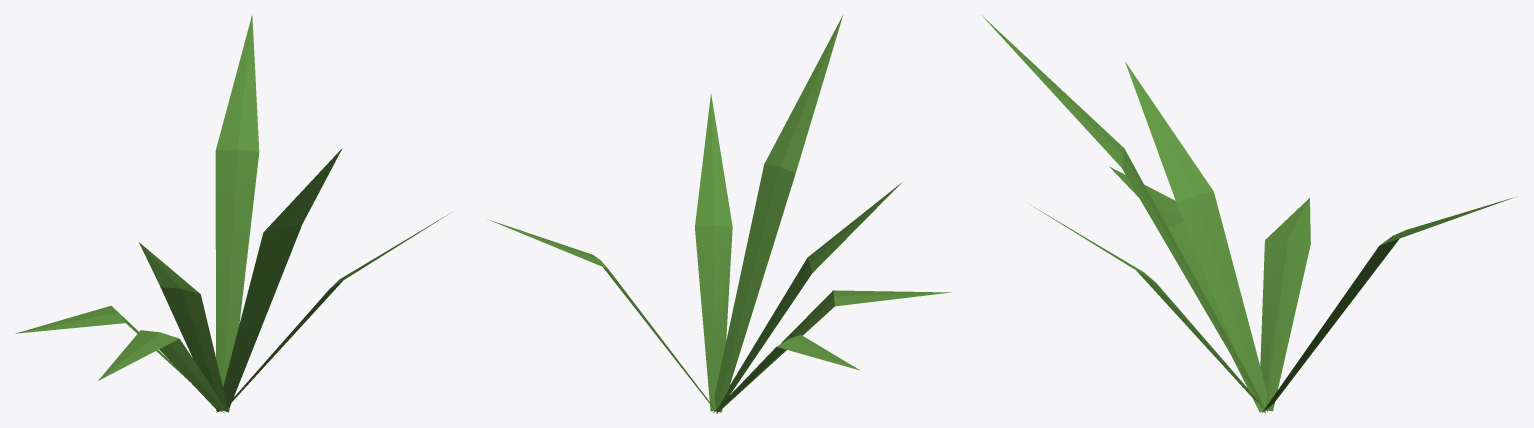
Rendered from GrassTuft.fbx.
The picture shows the model from 3 angles, left to right: view 1: azimuth 30°, elevation 25°; view 2: azimuth 150°, elevation 25°; view 3: azimuth 270°, elevation 25°; orthographic projection. The views are drawn at different scales.
Visible parts, largest first — view 1: GrassTuft; view 2: GrassTuft; view 3: GrassTuft.
Part boxes in pixels (<box>): GrassTuft: <box>15,15,450,413</box>; GrassTuft: <box>488,15,951,413</box>; GrassTuft: <box>981,15,1517,413</box>.
Size of the model in its own units: 0.6389 by 0.6423 by 0.8052.
